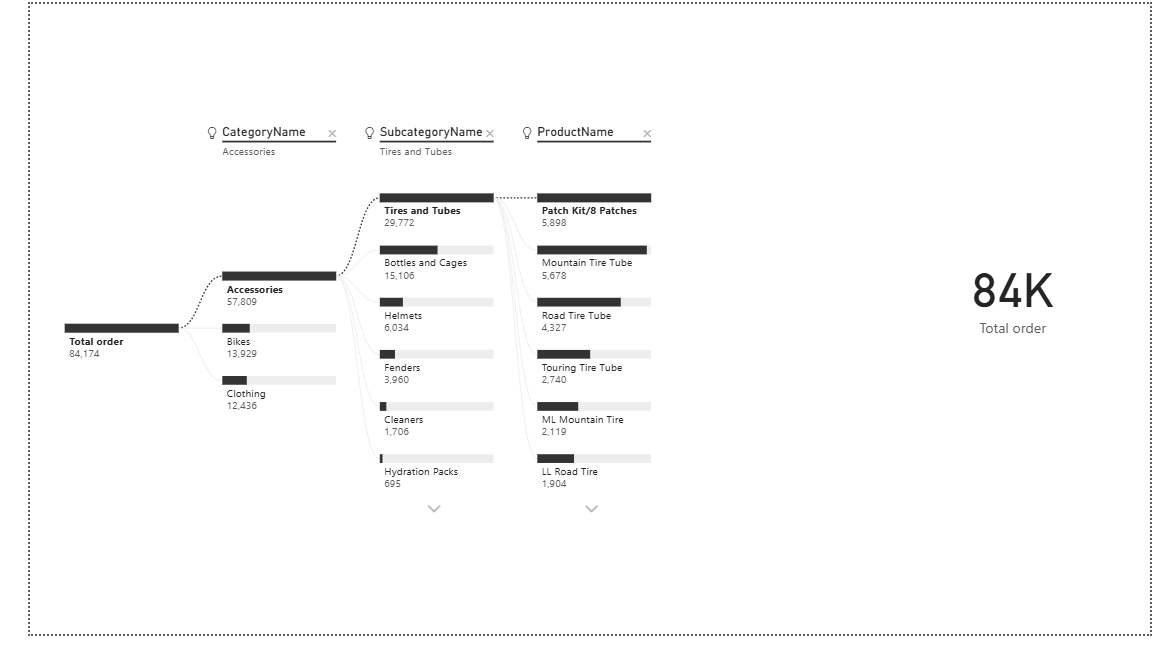

The dashboard page shown, as its layout file describes it:
{"tool":"powerbi","page":{"name":"Decomposition tree","canvas":[1280,720],"ordinal":5},"visuals":[{"type":"decompositionTreeVisual","fields":{"ExplainBy":["Product Categories Lookup.CategoryName","Product Subcategories Lookup.SubcategoryName","Product Lookup.ProductName"],"Analyze":["Measure Table.Total order"]},"box":[10,121.9,929.2,476.4],"z":0},{"type":"card","fields":{"Values":["Measure Table.Total order"]},"box":[967.8,189.1,312.2,284.9],"z":1000}]}

Visuals, with their boxes in screenshot pixels (x1, y1, x2, y2), scaled from the page's 1280x720 canvas onto the 1168x660 screenshot:
decompositionTreeVisual - Product Categories Lookup.CategoryName x Product Subcategories Lookup.SubcategoryName: 9, 112, 857, 548
card - Measure Table.Total order: 883, 173, 1167, 434
